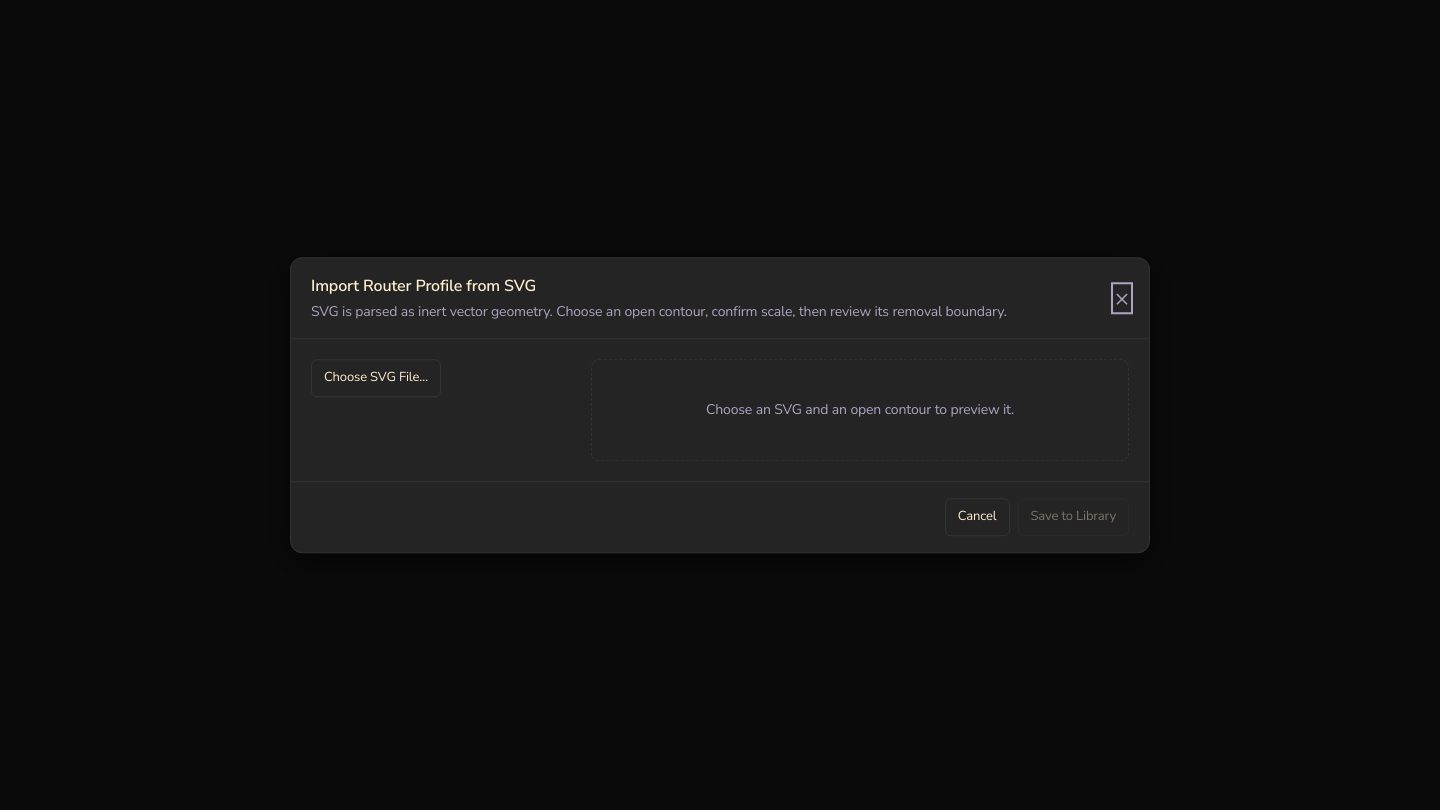
SvgRouterProfileImportDialog › reports deterministic approximation before saving a rotated SVG arc
Step 1. Click the button "Choose SVG File…" → click(376, 378), box [311,359,441,397]
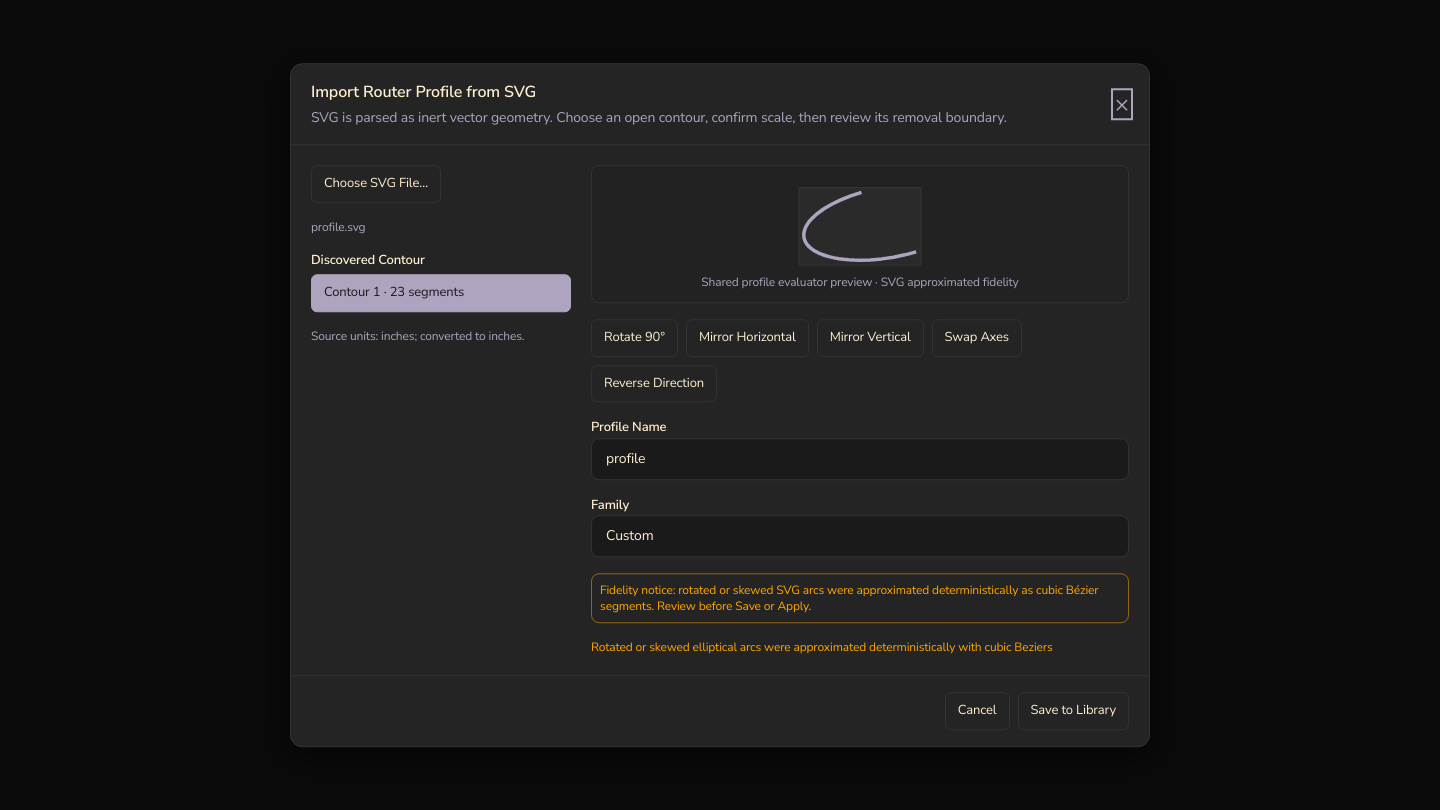
Check: the text "Fidelity notice: rotated or skewed SVG arcs were approximated" is shown, box [600,582,1098,614]
